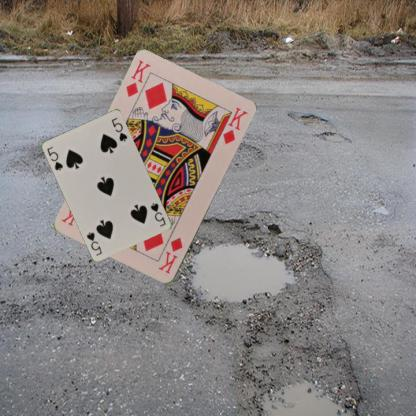5s: (148, 200, 167, 228), (45, 144, 64, 172)
Kd: (123, 57, 153, 99), (156, 235, 184, 276)
